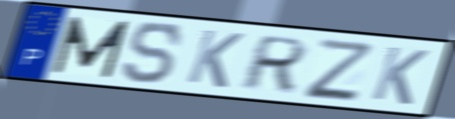K: (368, 44, 432, 107), (184, 27, 247, 90)
M: (49, 14, 133, 80)
R: (236, 34, 312, 93)
S: (120, 20, 186, 85)
Z: (302, 36, 374, 101)
